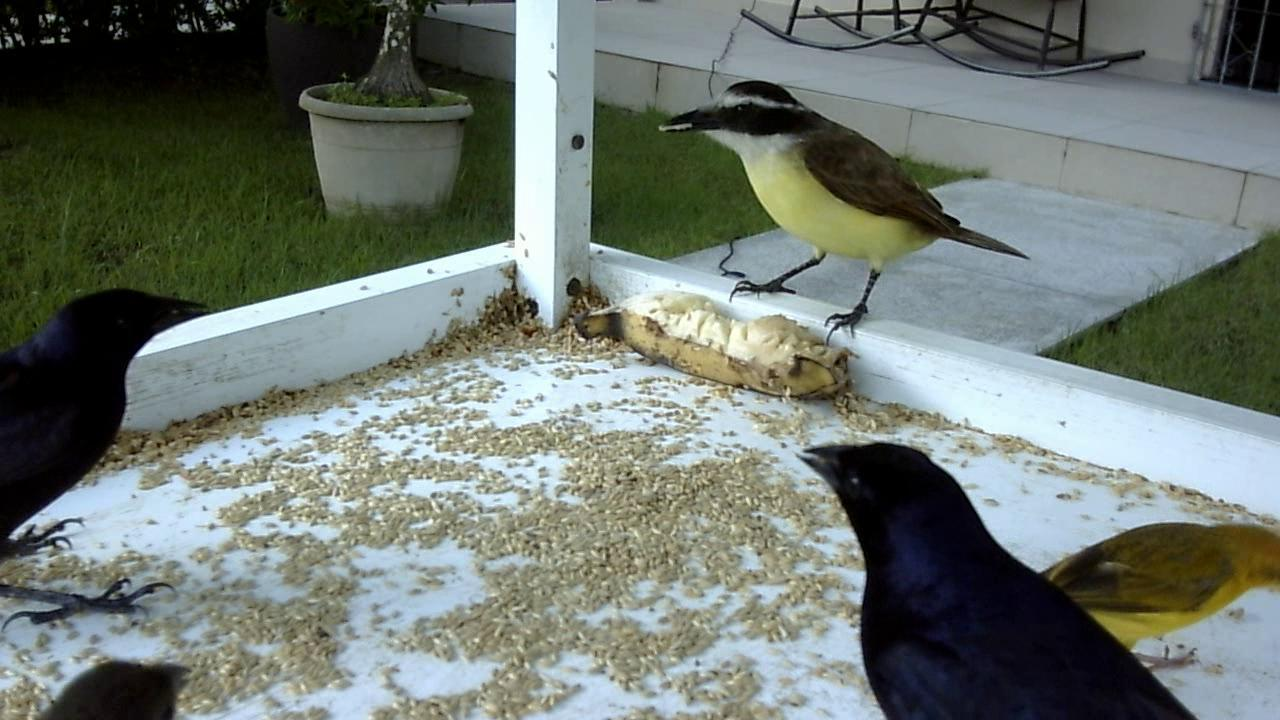bem_te_vi: (643, 64, 1037, 362)
canario_do_amazonas: (1046, 501, 1278, 682)
chupim: (778, 426, 1250, 712), (1, 278, 214, 645)
